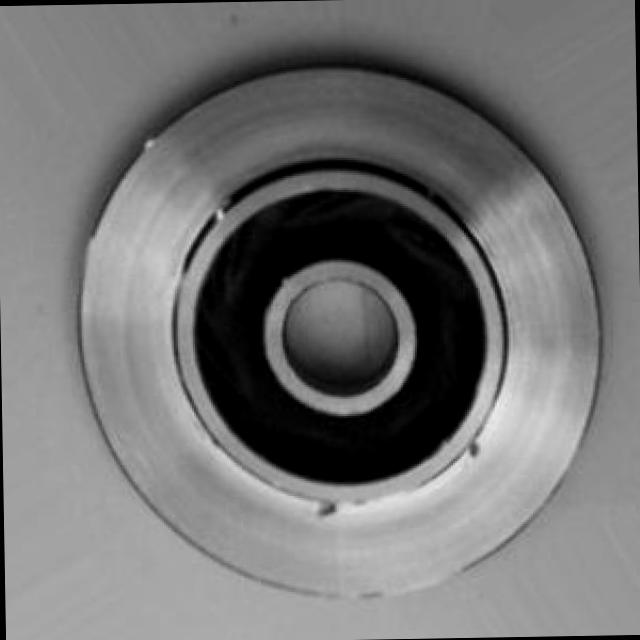Defect: (314, 496, 356, 532)
